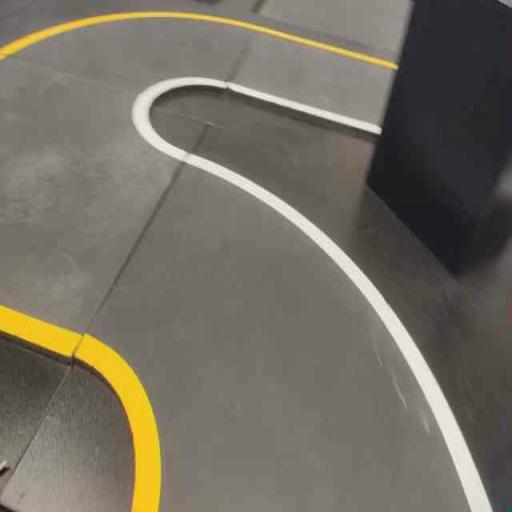left: (59, 140, 497, 511)
